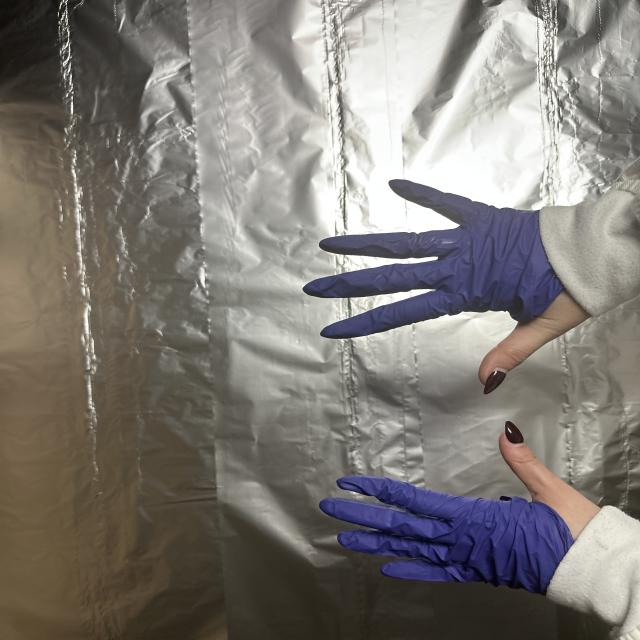glove_partial: (298, 176, 592, 399), (316, 419, 604, 596)
